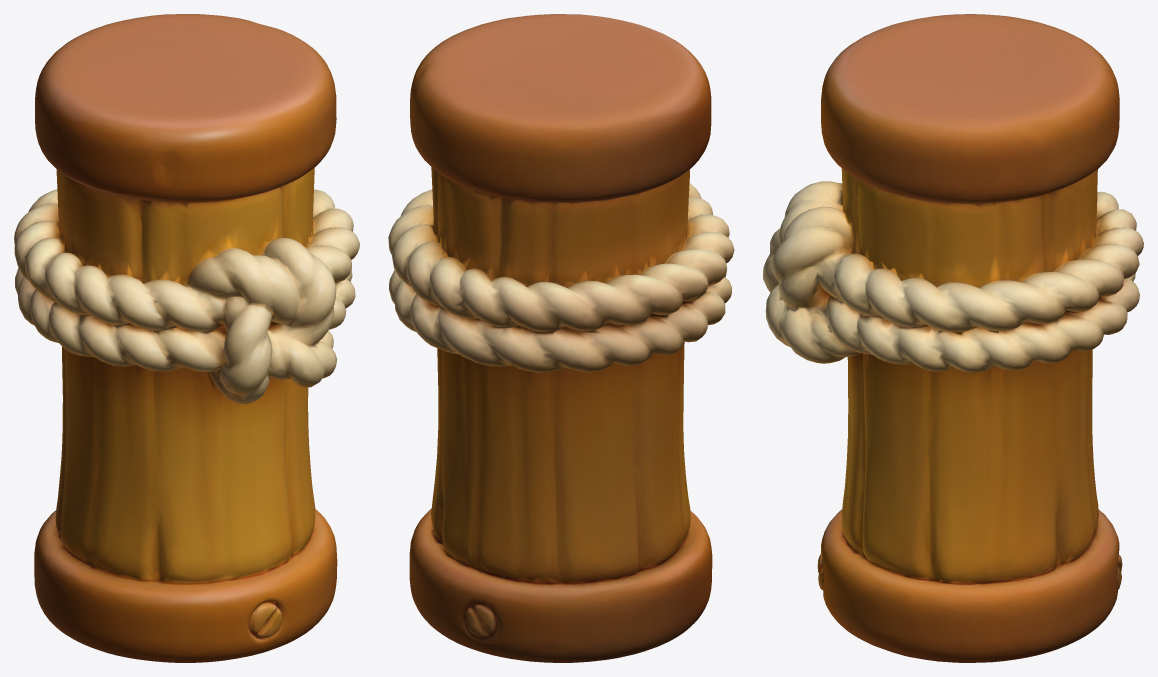
File: bridge-post.glb
The picture shows the model from 3 angles, left to right: view 1: azimuth 30°, elevation 25°; view 2: azimuth 150°, elevation 25°; view 3: azimuth 270°, elevation 25°; orthographic projection.
Visible parts, largest first — view 1: tripo_node_8ec50361-bc3b-4e73-bf0a-edfdfc380c86; view 2: tripo_node_8ec50361-bc3b-4e73-bf0a-edfdfc380c86; view 3: tripo_node_8ec50361-bc3b-4e73-bf0a-edfdfc380c86.
Part boxes in pixels (<box>): tripo_node_8ec50361-bc3b-4e73-bf0a-edfdfc380c86: <box>14,14,359,662</box>; tripo_node_8ec50361-bc3b-4e73-bf0a-edfdfc380c86: <box>388,14,734,662</box>; tripo_node_8ec50361-bc3b-4e73-bf0a-edfdfc380c86: <box>763,14,1143,662</box>.
Bounding box in the file's own units: 0.5811 × 1 × 0.6382.
1 material, 1 textured.
